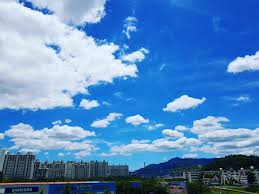sky: (1, 1, 257, 154)
